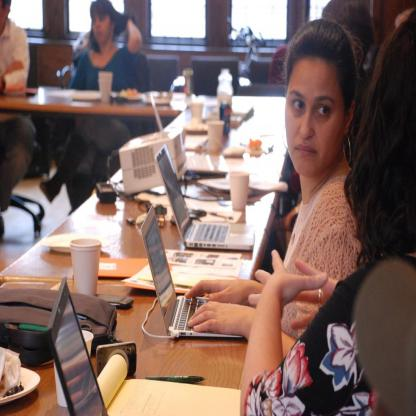board: (140, 206, 248, 337), (156, 144, 254, 248), (47, 278, 109, 416), (150, 94, 228, 174), (70, 234, 103, 293), (217, 69, 233, 139), (230, 171, 249, 211), (207, 119, 224, 152), (219, 102, 231, 136), (100, 70, 112, 102)
